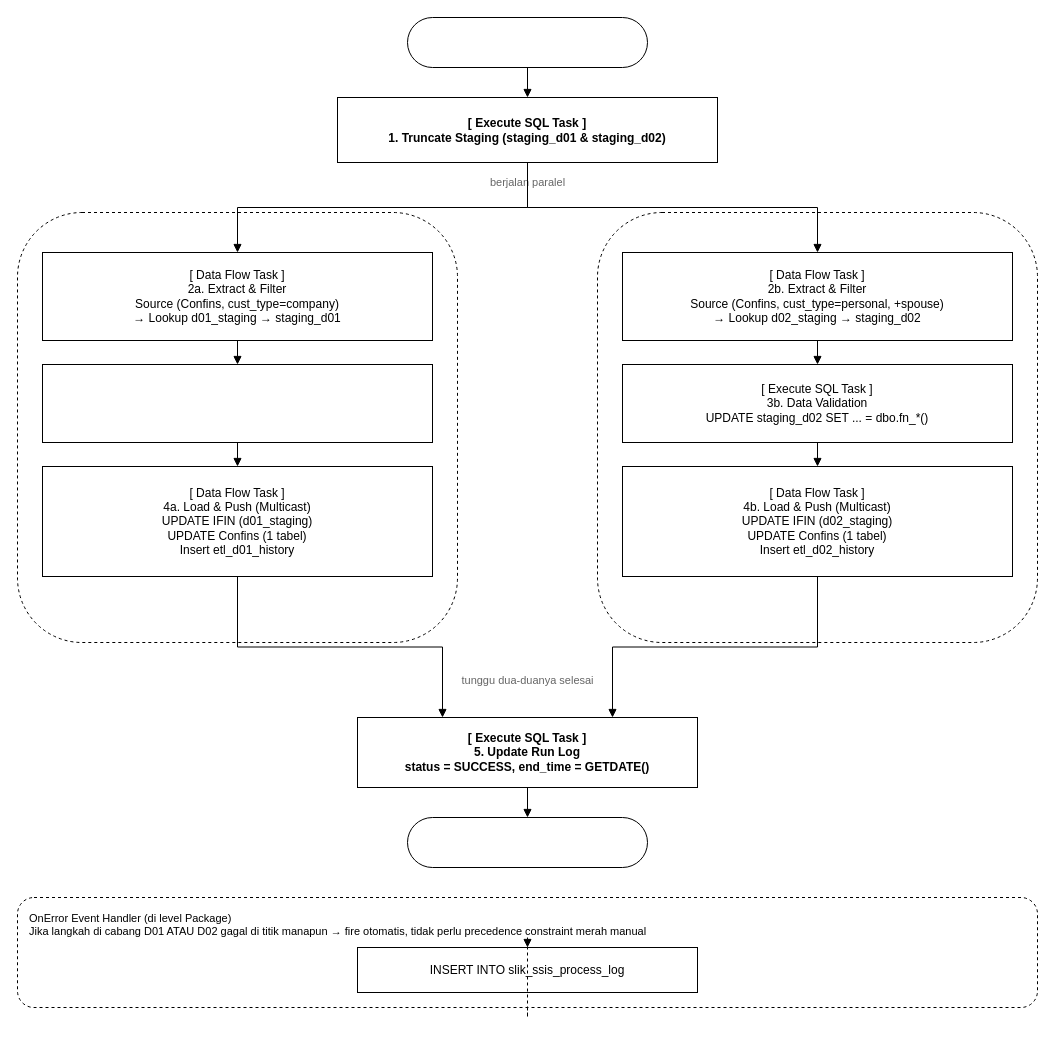
Some shapes in this 1055 by 1043 pixel diagram are drawn without their labels. Here are the shapes that lost their labels. From the top down, the box of each, then its label:
(406, 16, 648, 68): START — Package Execute
(42, 364, 432, 442): [ Execute SQL Task ] 3a. Data Validation UPDATE staging_d01 SET ... = dbo.fn_*()
(16, 212, 458, 642): Sequence Container — D01 (Company)
(596, 212, 1038, 642): Sequence Container — D02 (Perorangan)
(406, 816, 648, 868): END — Success
